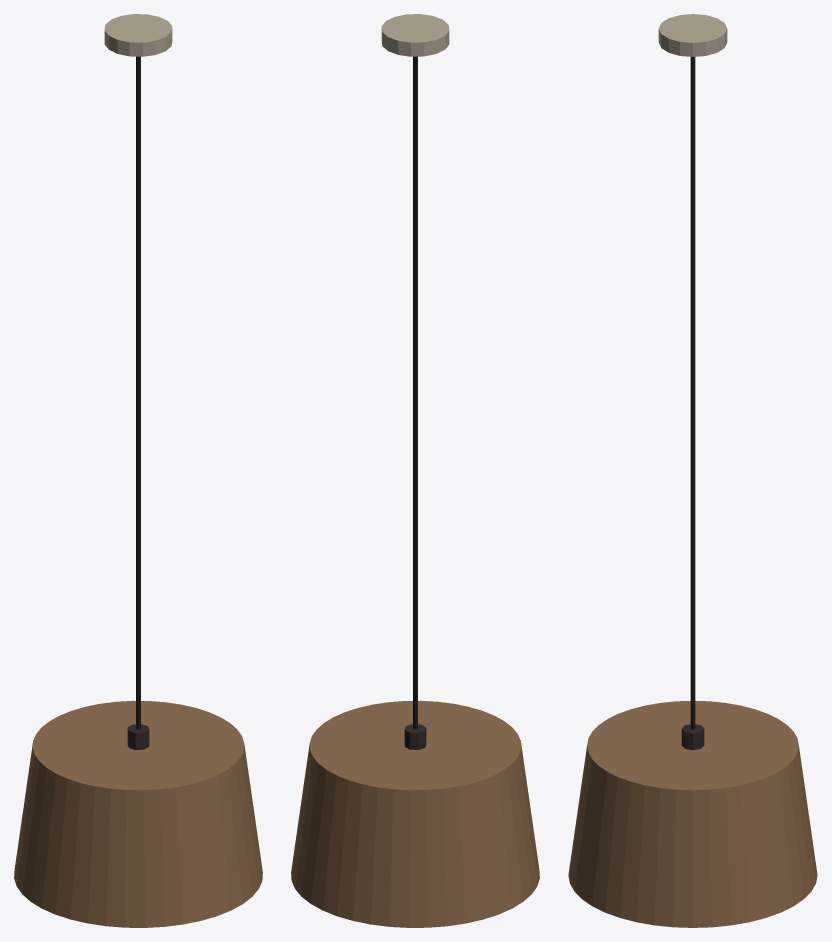
The model's file is ceiling-pendant-shade.glb.
The picture shows the model from 3 angles, left to right: view 1: azimuth 30°, elevation 25°; view 2: azimuth 150°, elevation 25°; view 3: azimuth 270°, elevation 25°; orthographic projection.
Visible parts, largest first — view 1: shade, rubber, plastic-light, plastic-dark; view 2: shade, rubber, plastic-light, plastic-dark; view 3: shade, rubber, plastic-light, plastic-dark.
Part boxes in pixels (box(x1,y1,x2,y2)): shade: box(14, 700, 262, 927); rubber: box(136, 56, 140, 729); plastic-light: box(104, 14, 172, 56); plastic-dark: box(127, 724, 149, 749); shade: box(291, 700, 539, 927); rubber: box(413, 56, 417, 729); plastic-light: box(381, 14, 449, 56); plastic-dark: box(404, 724, 426, 749); shade: box(568, 700, 817, 927); rubber: box(690, 57, 695, 729); plastic-light: box(658, 14, 727, 56); plastic-dark: box(681, 724, 704, 749).
Bounding box in the file's own units: 0.4 × 1.5 × 0.4.
